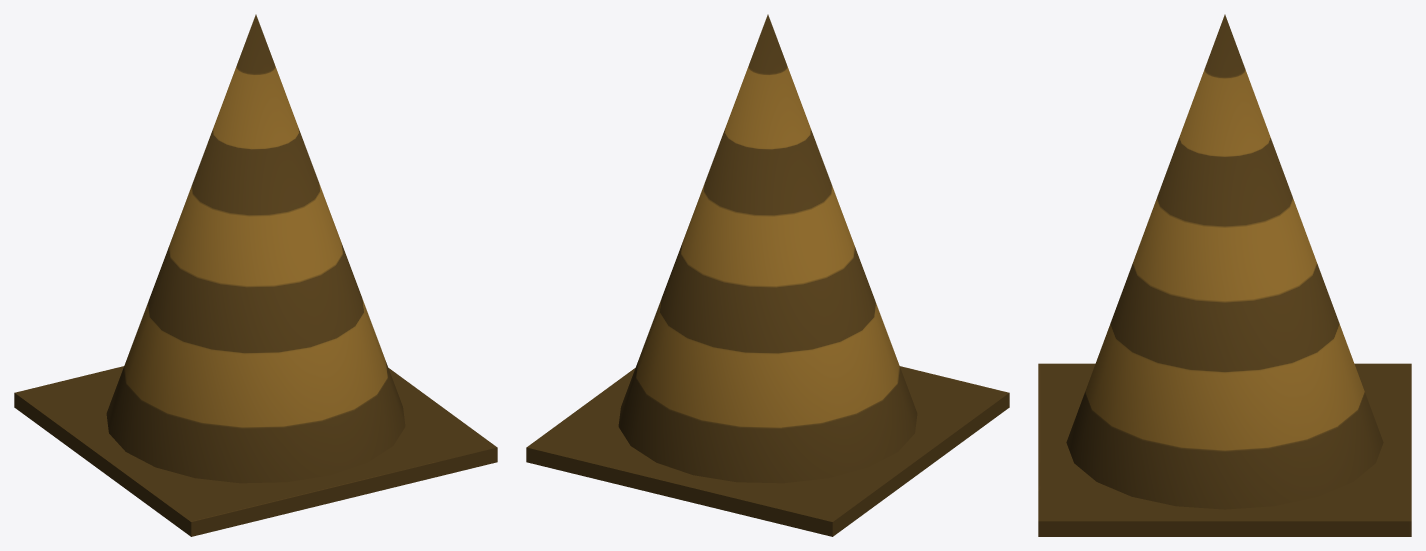
The model's file is obstakel.fbx.
3 renders of one model, left to right at view 1: azimuth 30°, elevation 25°; view 2: azimuth 150°, elevation 25°; view 3: azimuth 270°, elevation 25°, orthographic. The views are drawn at different scales.
Parts seen in each view (by area): view 1: obstakel; view 2: obstakel; view 3: obstakel.
Part boxes in pixels (box(x1,y1,x2,y2)): obstakel: box(14, 14, 497, 536); obstakel: box(526, 14, 1009, 536); obstakel: box(1038, 14, 1411, 536).
Size of the model in its own units: 0.0168 by 0.0221 by 0.0168.
1 material, 1 textured.
